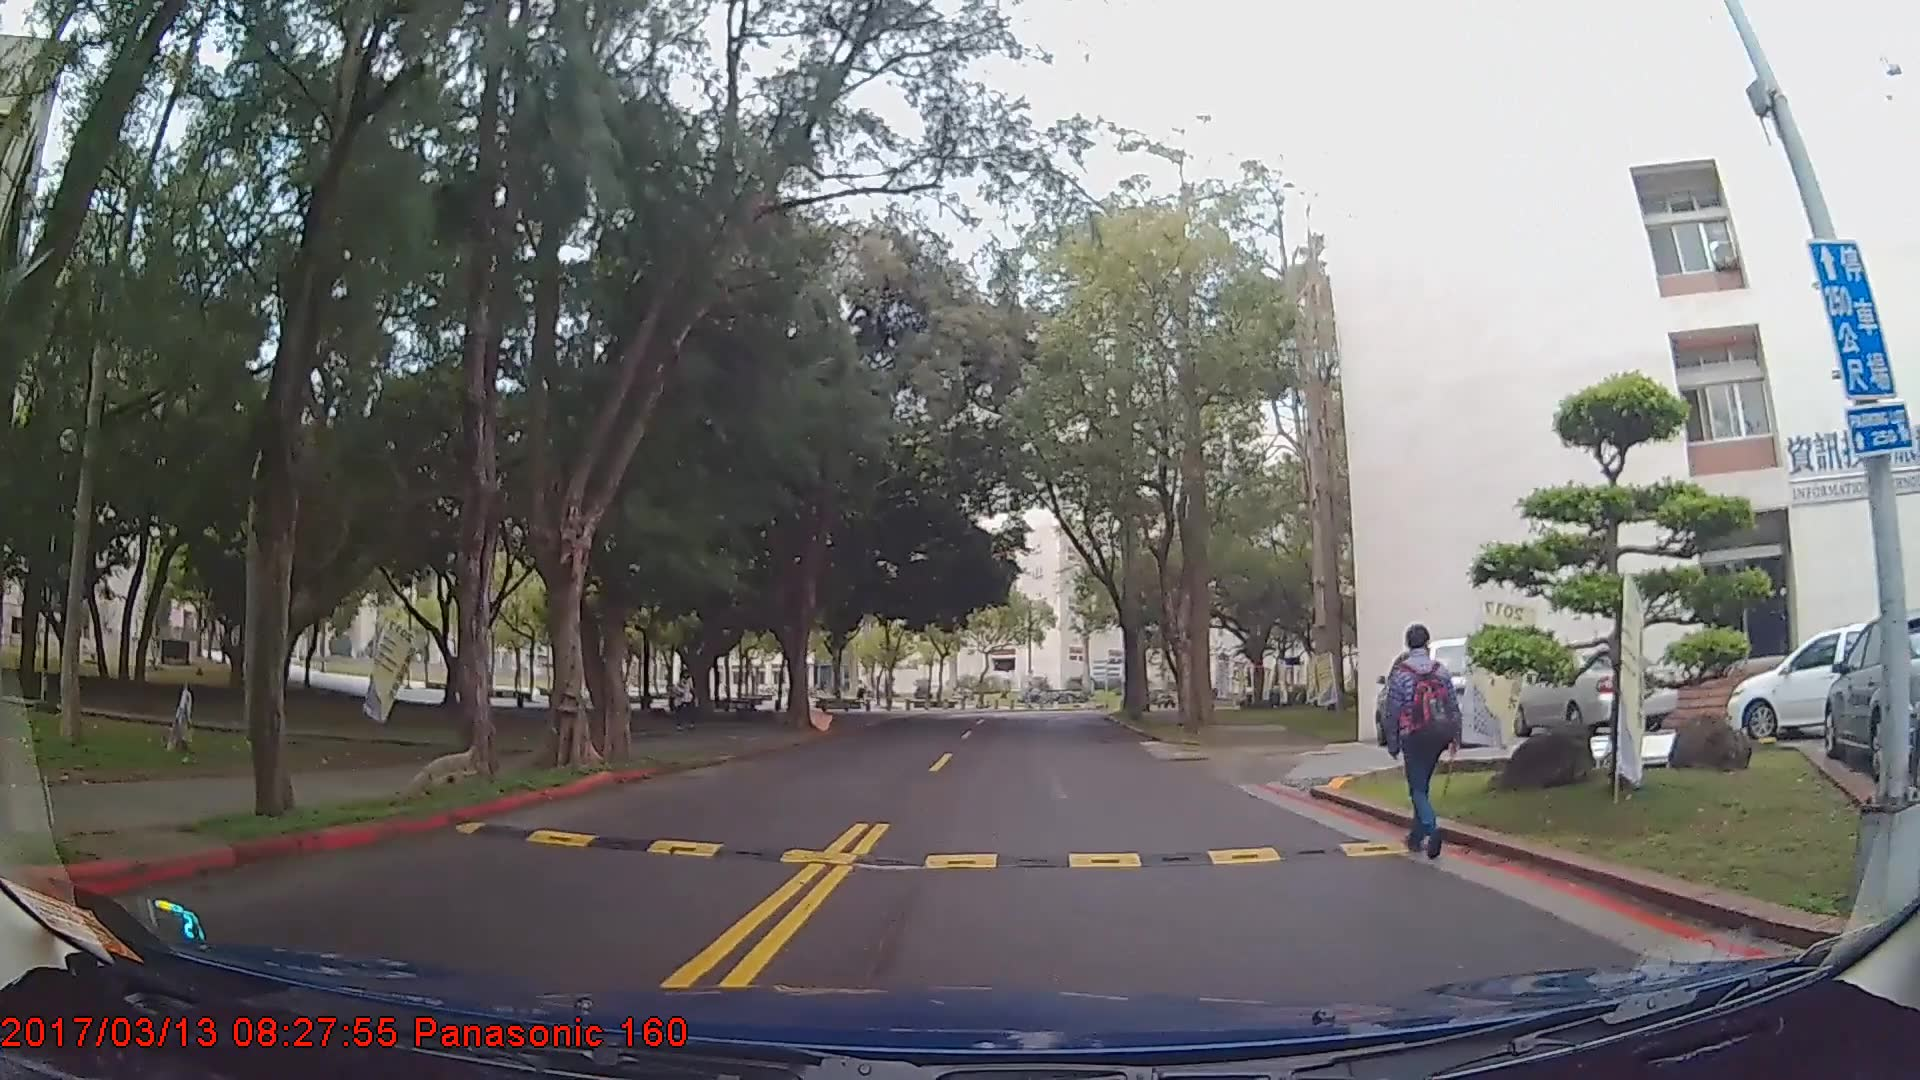pedestrian: (1384, 618, 1463, 859), (672, 668, 700, 731)
vehicle: (1724, 623, 1896, 741)
